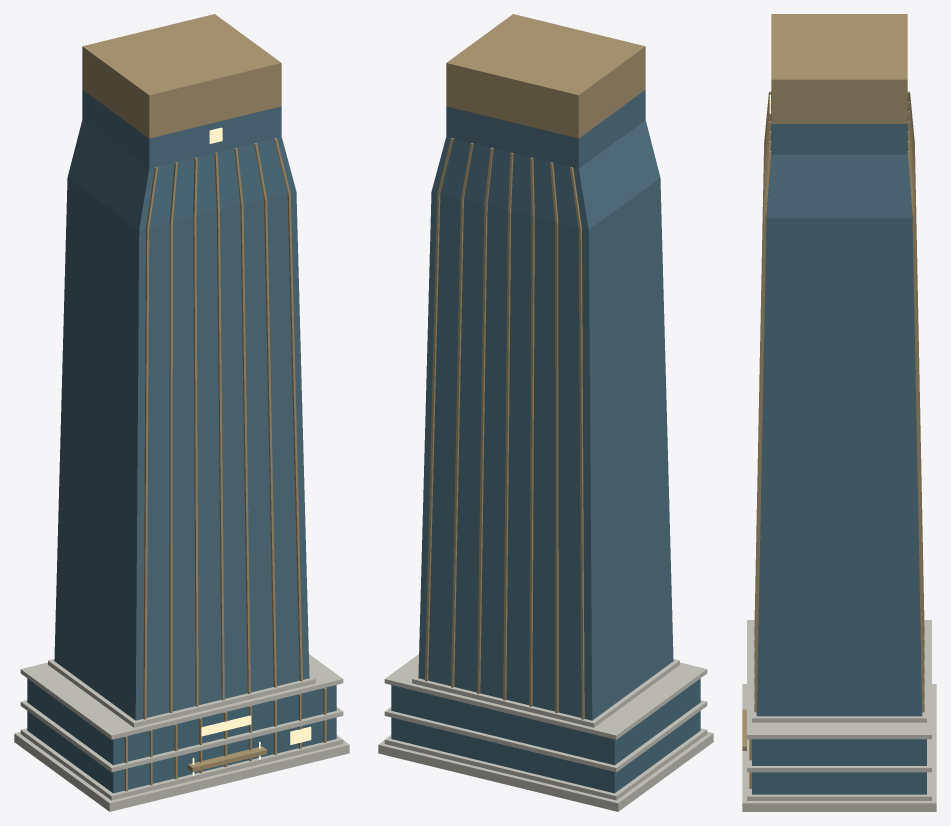
The model's file is Atlantis_PallasAI_HQ_v1.glb.
The picture shows the model from 3 angles, left to right: view 1: azimuth 30°, elevation 25°; view 2: azimuth 150°, elevation 25°; view 3: azimuth 270°, elevation 25°; orthographic projection.
Parts seen in each view (by area): view 1: PallasAI_TowerRetopology, PallasAI_Bronze, PallasAI_PodiumStone, PallasAI_PodiumGlass; view 2: PallasAI_TowerRetopology, PallasAI_Bronze, PallasAI_PodiumStone, PallasAI_PodiumGlass; view 3: PallasAI_TowerRetopology, PallasAI_Bronze, PallasAI_PodiumStone, PallasAI_PodiumGlass.
Boxes of the visible parts, box(x1,y1,x2,y2) form: PallasAI_TowerRetopology: box(54, 90, 309, 720); PallasAI_Bronze: box(82, 14, 326, 791); PallasAI_PodiumStone: box(14, 654, 349, 811); PallasAI_PodiumGlass: box(27, 678, 336, 793); PallasAI_TowerRetopology: box(418, 90, 673, 720); PallasAI_Bronze: box(425, 14, 645, 719); PallasAI_PodiumStone: box(378, 654, 713, 811); PallasAI_PodiumGlass: box(391, 678, 700, 793); PallasAI_TowerRetopology: box(756, 95, 922, 716); PallasAI_Bronze: box(742, 14, 924, 788); PallasAI_PodiumStone: box(742, 620, 936, 811); PallasAI_PodiumGlass: box(752, 739, 926, 794).
Size of the model in its own units: 58 by 160 by 40.
